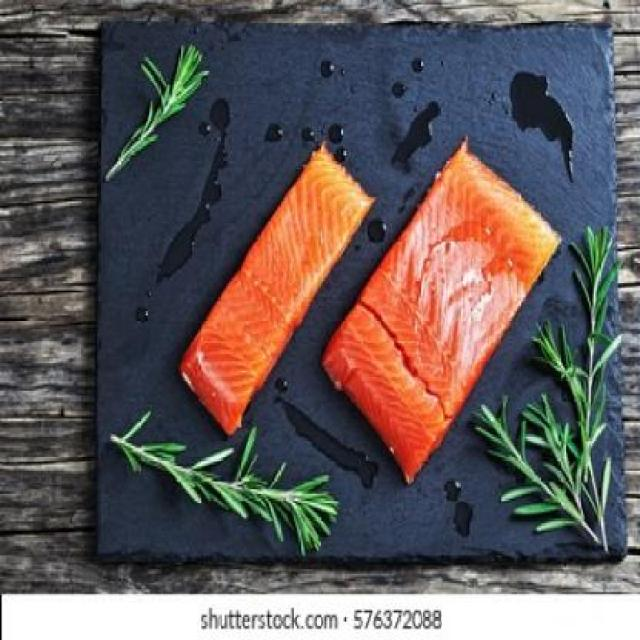salmon: (331, 109, 554, 484), (169, 135, 378, 453)
